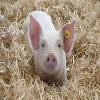heo: (25, 12, 75, 80)
